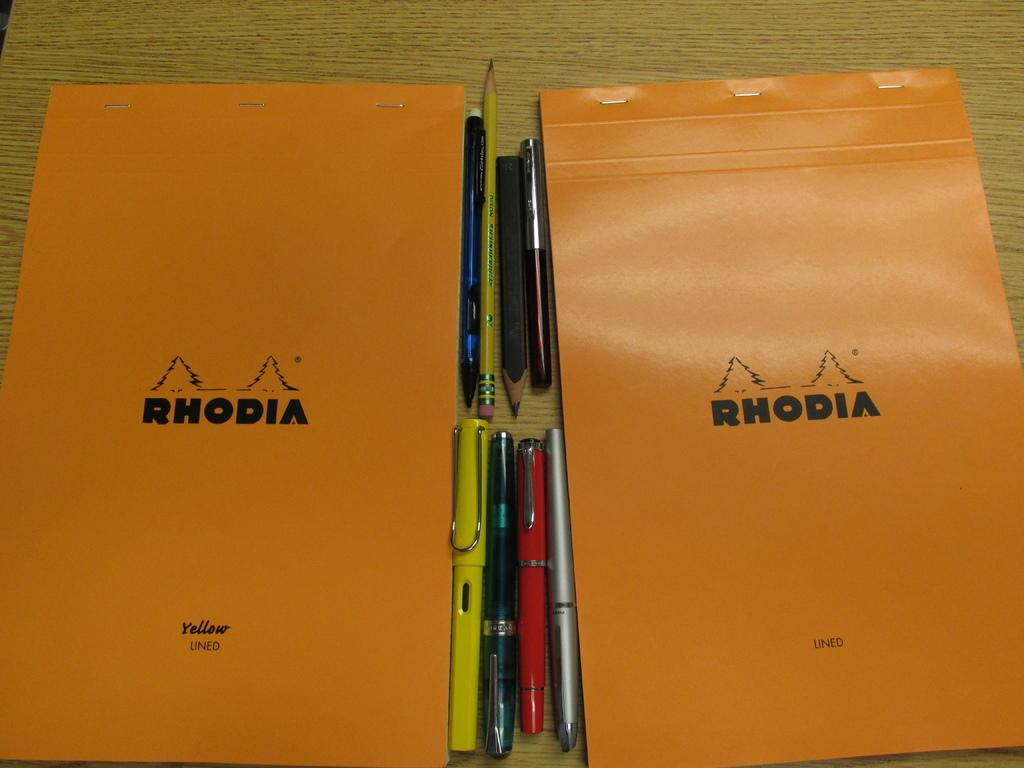pen: (449, 420, 578, 754), (514, 138, 554, 387), (456, 107, 483, 412)
